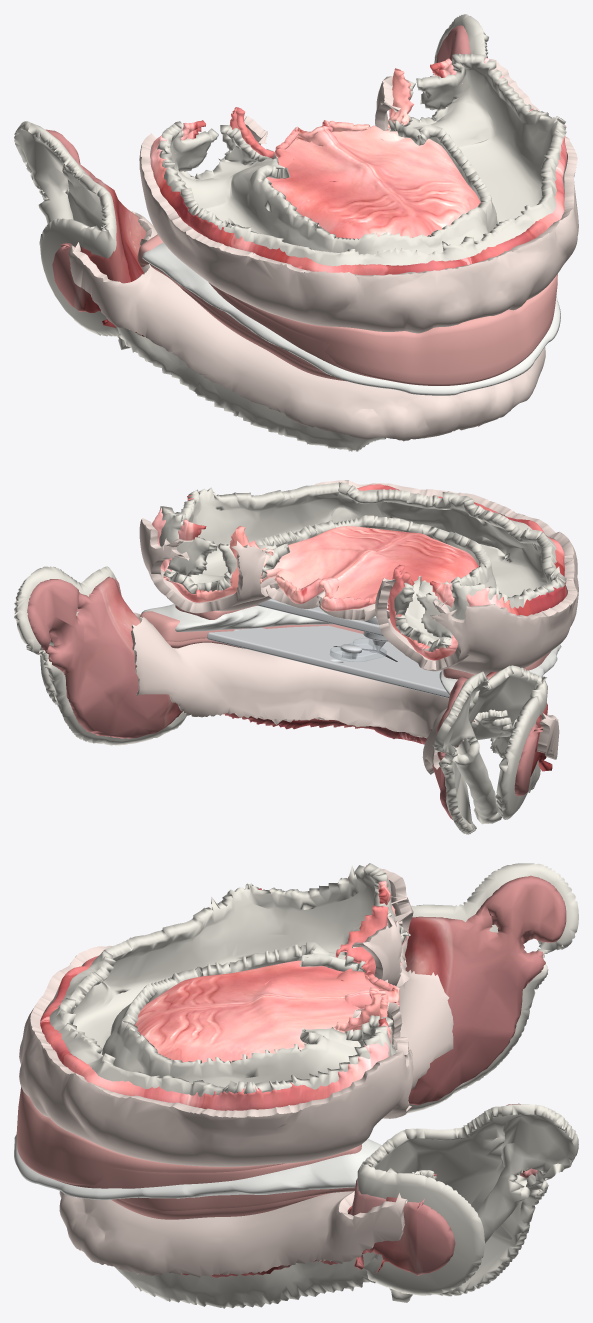
The model's file is zahnlos.glb.
3 views of the same model, one above another, from view 1: azimuth 30°, elevation 25°; view 2: azimuth 150°, elevation 25°; view 3: azimuth 270°, elevation 25° (orthographic). The views are drawn at different scales.
Parts seen in each view (by area): view 1: kamm_ok, basis_ok, schleimhaut_ok, basis_uk, wall_ok_reg, kamm_uk_hinten, verschluesselung, kamm_uk, schleimhaut_uk_hinten, wall_ok, wall_uk_reg, wall_uk; view 2: kamm_ok, basis_uk, schleimhaut_ok, basis_ok, schleimhaut_uk_hinten, kamm_uk_hinten, registrierplatte, verschluesselung, kamm_uk, stiftplatte, schleimhaut_uk, wall_uk (+2 smaller); view 3: kamm_ok, kamm_uk_hinten, basis_ok, schleimhaut_ok, basis_uk, schleimhaut_uk_hinten, kamm_uk, wall_ok_reg, verschluesselung, wall_ok, wall_uk, wall_uk_reg.
Part boxes in pixels (left/top/right/bottom): kamm_ok: left=157, top=53, right=566, bottom=266; basis_ok: left=139, top=59, right=578, bottom=333; schleimhaut_ok: left=150, top=58, right=566, bottom=275; basis_uk: left=68, top=211, right=545, bottom=441; wall_ok_reg: left=226, top=273, right=557, bottom=385; kamm_uk_hinten: left=14, top=14, right=488, bottom=349; verschluesselung: left=142, top=242, right=560, bottom=395; kamm_uk: left=116, top=327, right=385, bottom=451; schleimhaut_uk_hinten: left=45, top=25, right=470, bottom=327; wall_ok: left=208, top=282, right=552, bottom=379; wall_uk_reg: left=140, top=264, right=346, bottom=381; wall_uk: left=137, top=234, right=319, bottom=369; kamm_ok: left=159, top=482, right=566, bottom=651; basis_uk: left=131, top=612, right=559, bottom=774; schleimhaut_ok: left=152, top=484, right=566, bottom=660; basis_ok: left=139, top=480, right=578, bottom=675; schleimhaut_uk_hinten: left=27, top=576, right=552, bottom=819; kamm_uk_hinten: left=14, top=566, right=547, bottom=834; registrierplatte: left=207, top=625, right=449, bottom=698; verschluesselung: left=141, top=604, right=561, bottom=695; kamm_uk: left=471, top=709, right=540, bottom=792; stiftplatte: left=257, top=598, right=388, bottom=641; schleimhaut_uk: left=218, top=713, right=546, bottom=760; wall_uk: left=140, top=611, right=363, bottom=641; kamm_ok: left=49, top=863, right=410, bottom=1096; kamm_uk_hinten: left=357, top=863, right=578, bottom=1302; basis_ok: left=19, top=868, right=413, bottom=1166; schleimhaut_ok: left=40, top=865, right=407, bottom=1110; basis_uk: left=59, top=970, right=453, bottom=1277; schleimhaut_uk_hinten: left=347, top=875, right=566, bottom=1275; kamm_uk: left=115, top=1170, right=436, bottom=1308; wall_ok_reg: left=16, top=1087, right=284, bottom=1185; verschluesselung: left=14, top=1134, right=381, bottom=1199; wall_ok: left=57, top=1144, right=361, bottom=1188; wall_uk: left=118, top=1001, right=399, bottom=1211; wall_uk_reg: left=111, top=1191, right=353, bottom=1219.
Bounding box in the file's own units: 0.0878 × 0.0459 × 0.0785.
10 materials, 2 textured.
